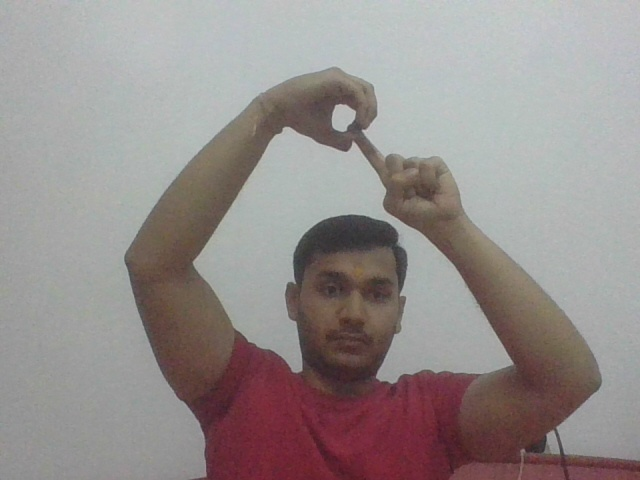Q: (289, 68, 428, 207)
